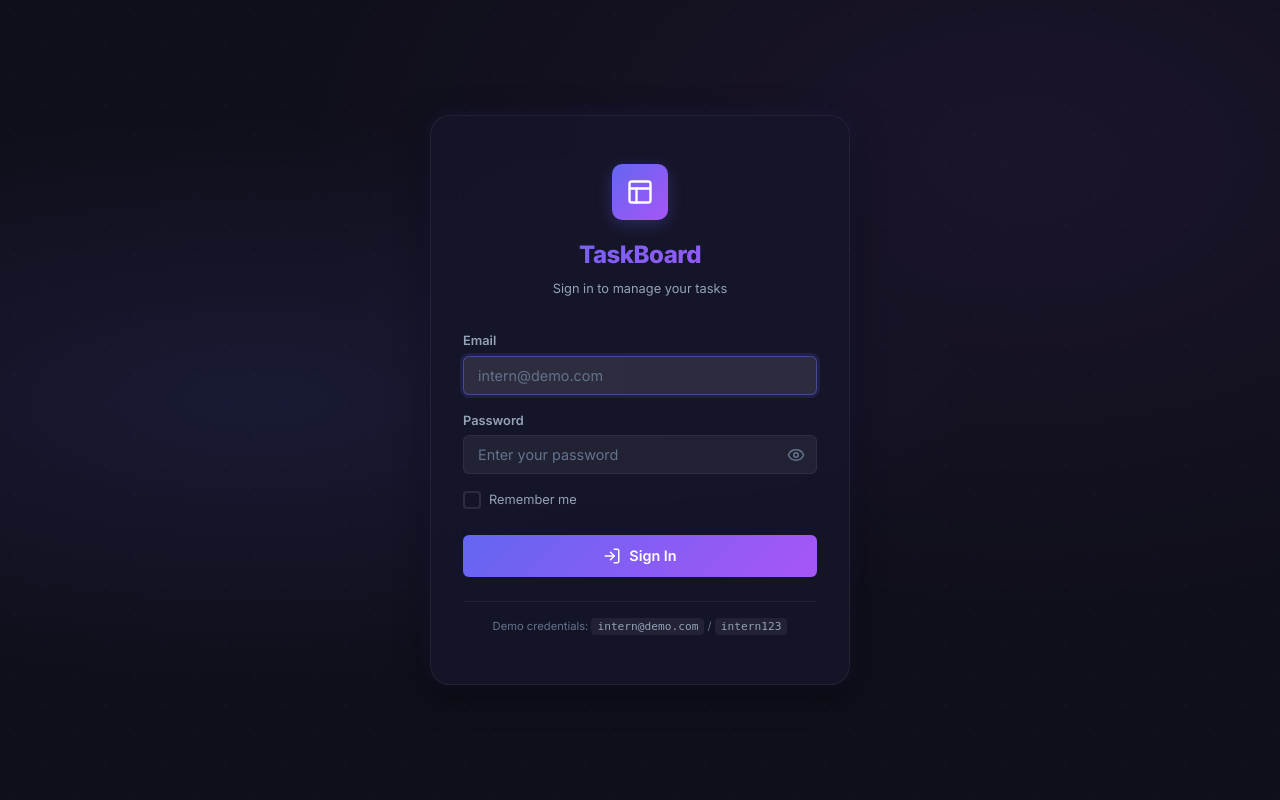
Test: Authentication › shows error for invalid credentials
The image size is (1280, 800).
Type "wrong@email.com" into the field labelled "Email" at (640, 375), box [463,356,817,395]
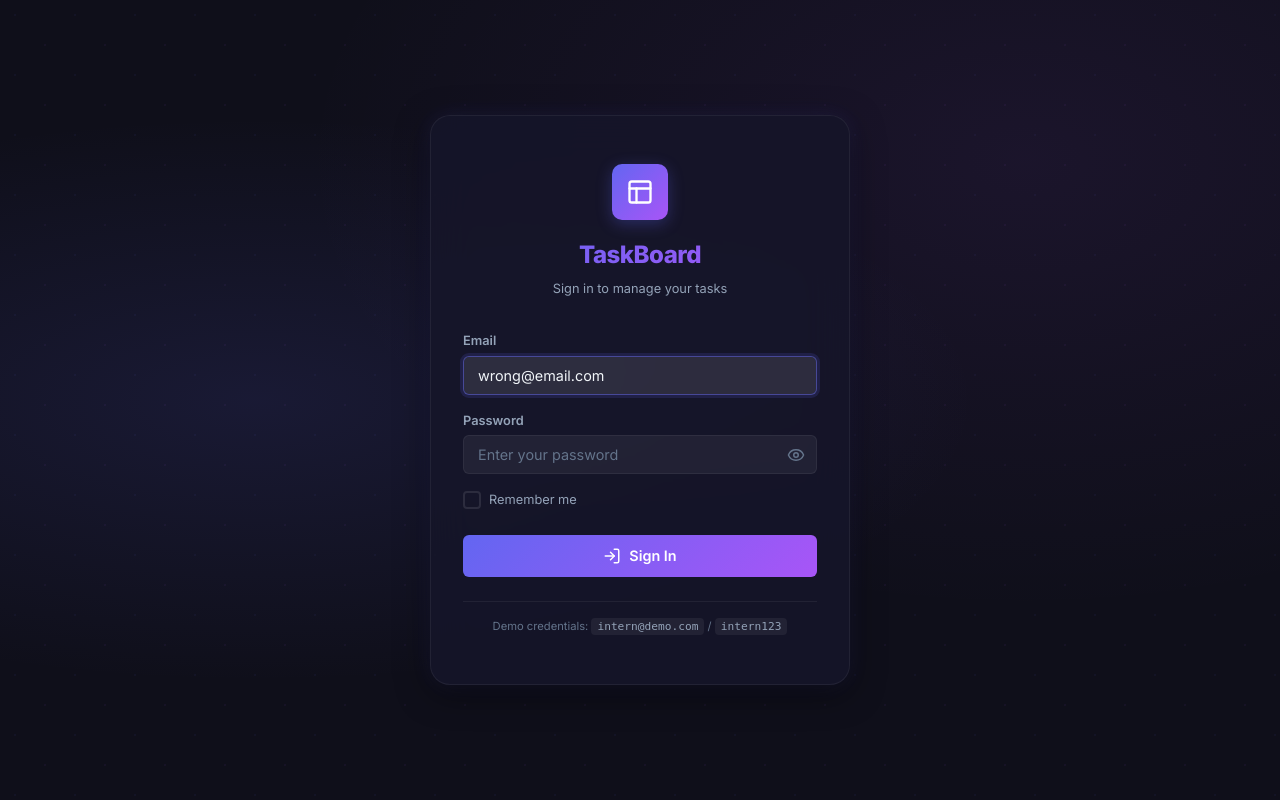
Type "wrongpass" into the password field labelled "Password" at (640, 455), box [463,435,817,474]
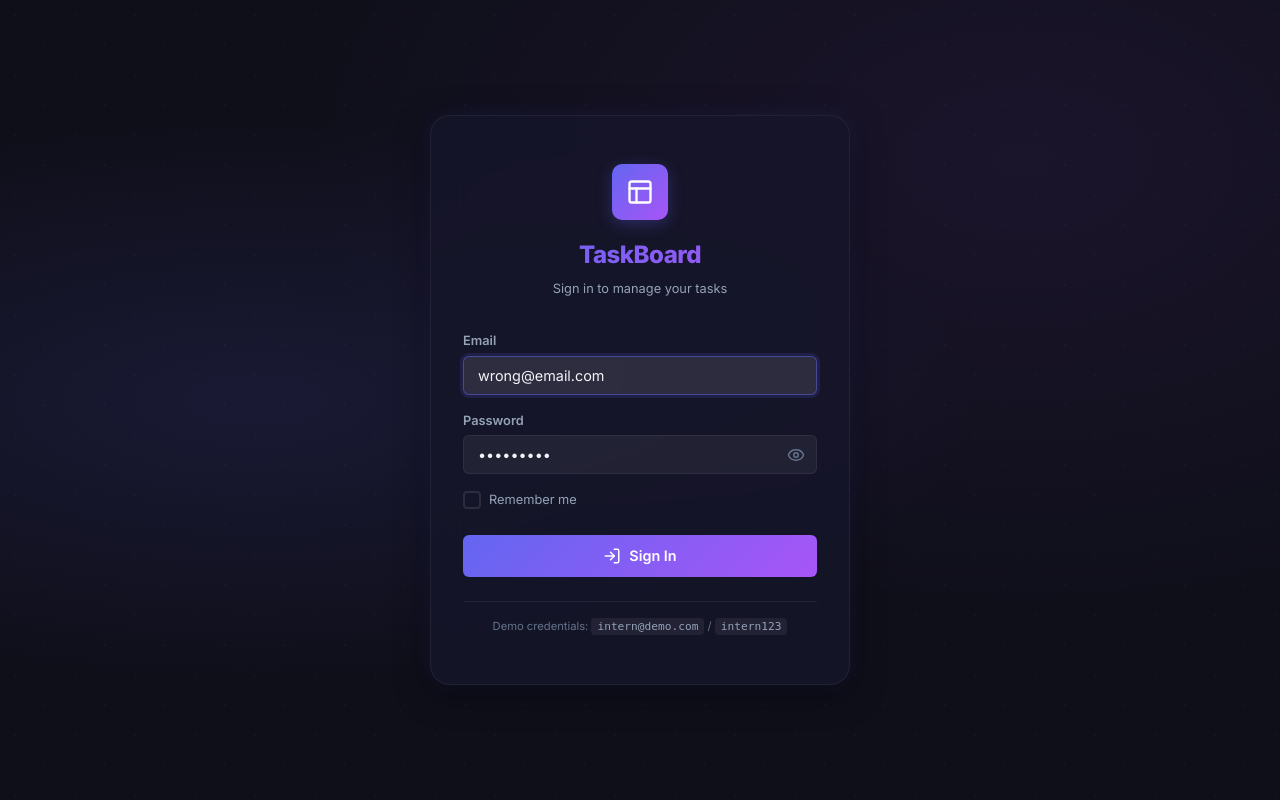
Click the button "Sign In" at (640, 556), box [463,535,817,577]
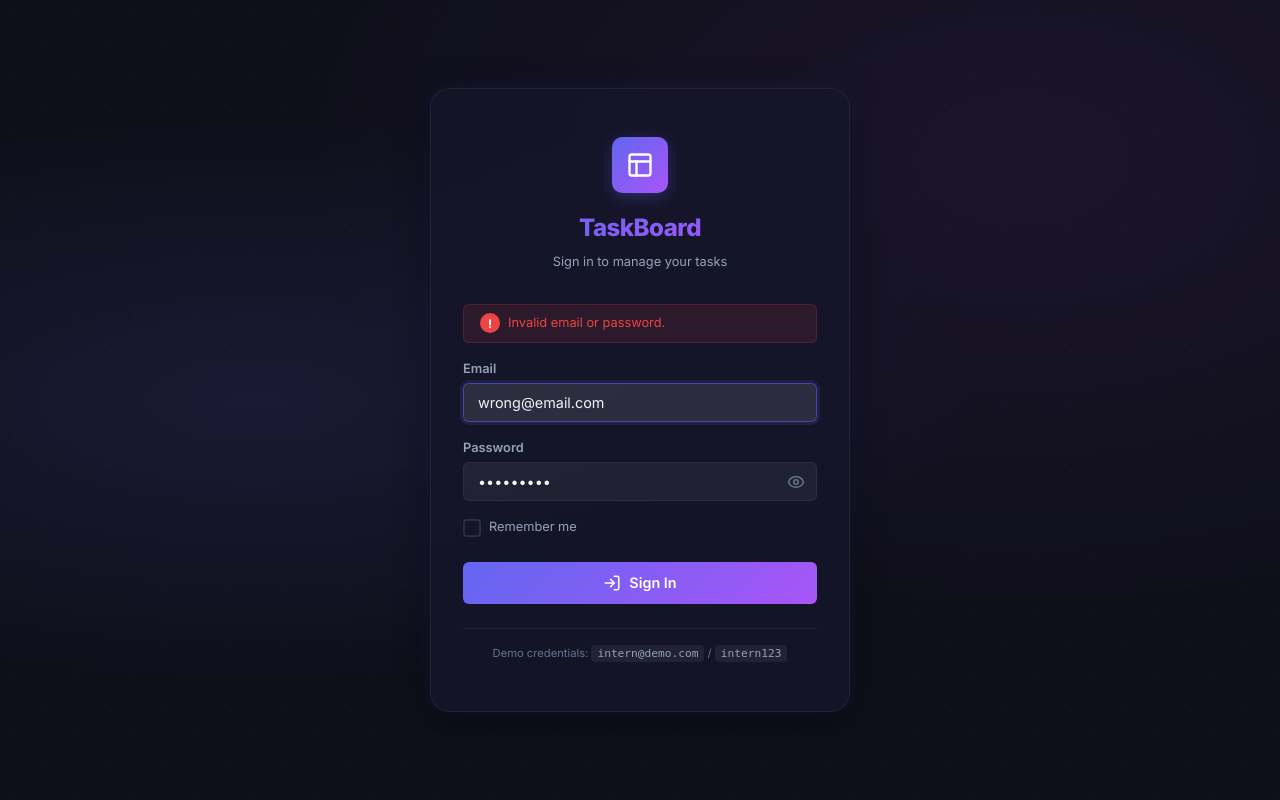
Now the message shows "Invalid email or password", box [508,315,665,330]
